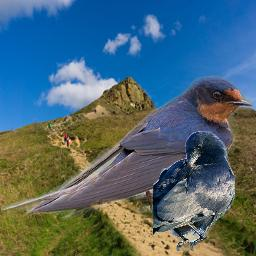Crow: (153, 131, 235, 251)
Swallow: (1, 74, 254, 218)
